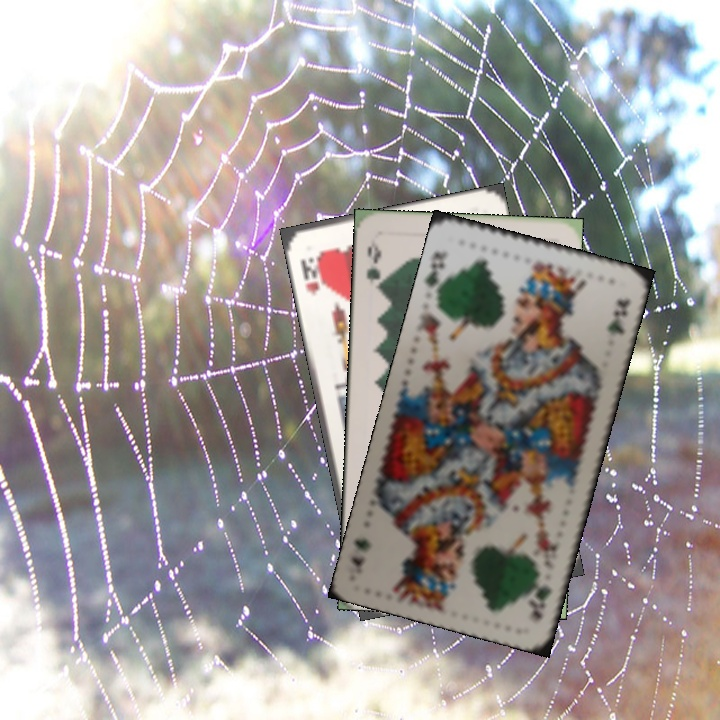G9: (362, 235, 386, 294)
GK: (421, 247, 453, 298), (527, 566, 554, 624)
HK: (296, 253, 326, 299)
